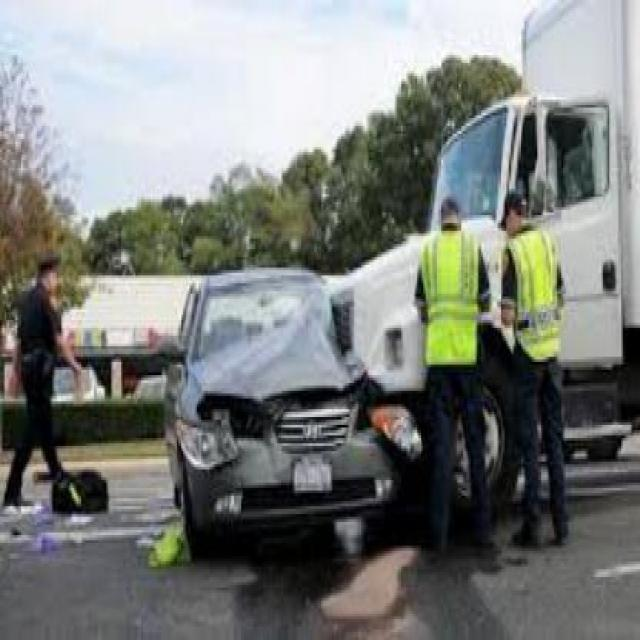accident: (158, 5, 638, 590)
